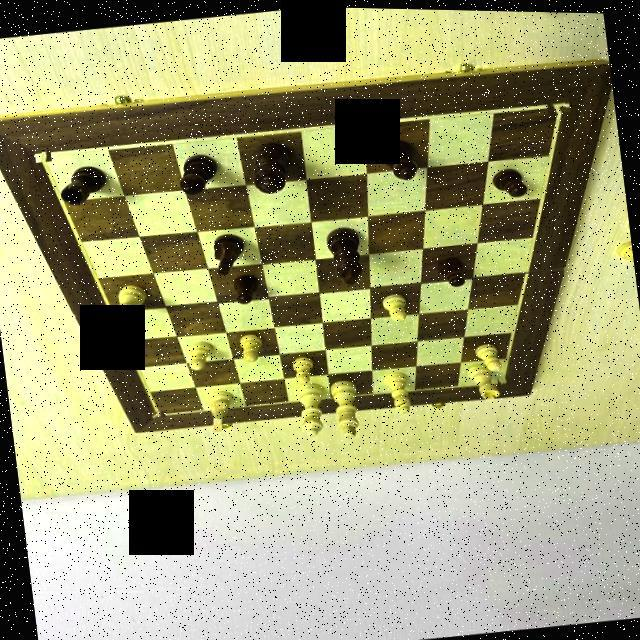chess-table-corners: (546, 95, 568, 110), (32, 146, 50, 162), (150, 408, 164, 418), (496, 373, 506, 382)
